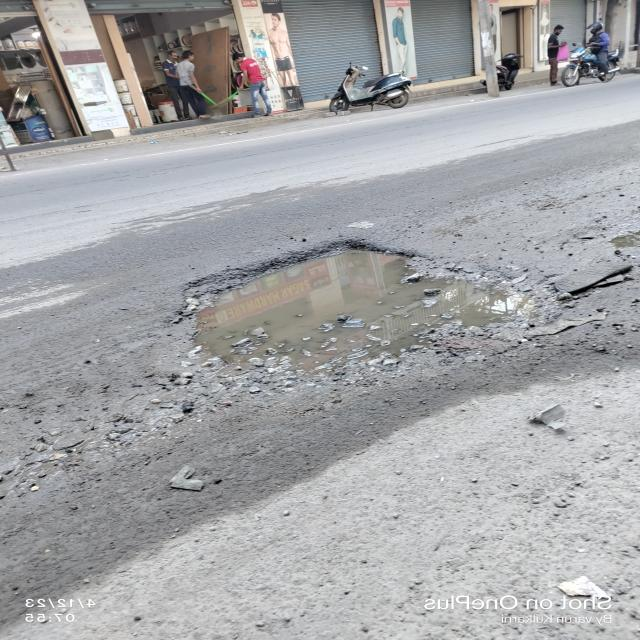Puddle pothole: (161, 234, 551, 374)
